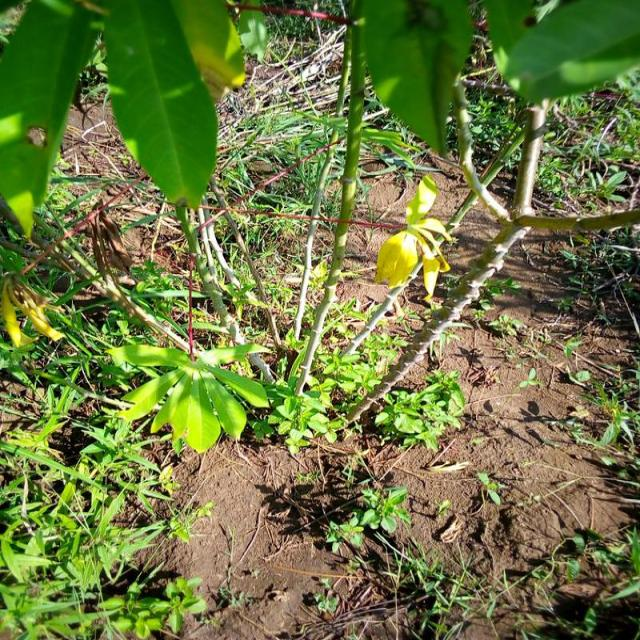cassava leaf: (103, 0, 220, 210), (0, 0, 98, 240), (106, 337, 271, 454), (356, 0, 474, 157), (484, 0, 639, 107)
